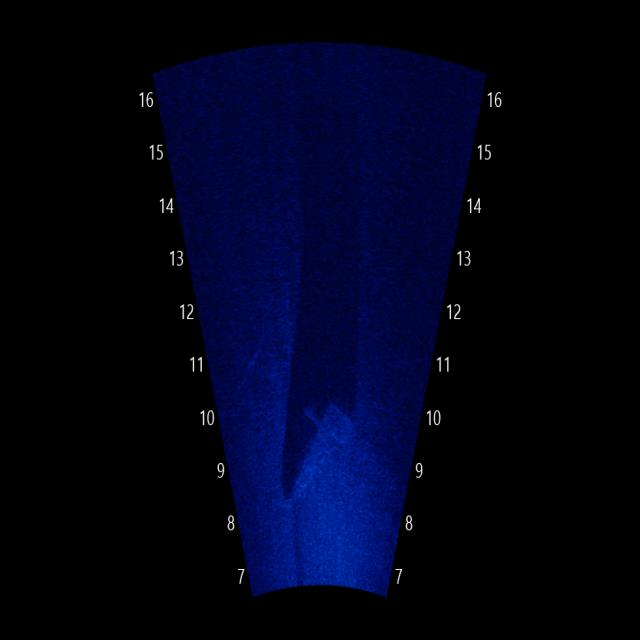triangle: (274, 383, 362, 512)
